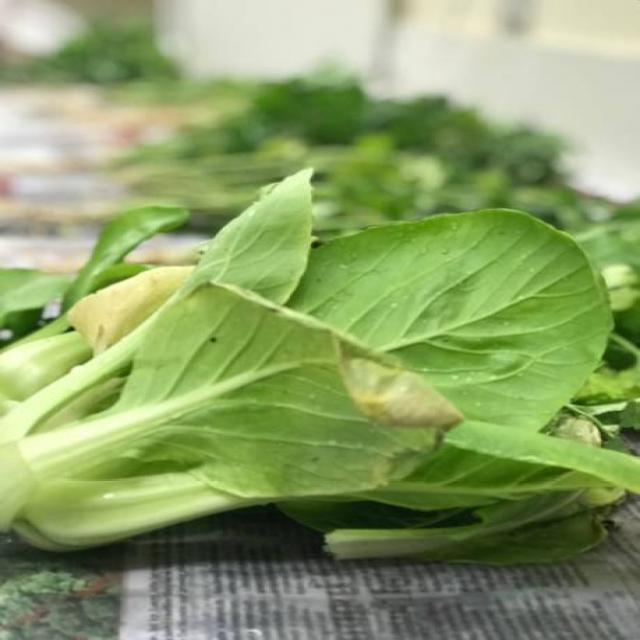bok choy: (0, 231, 640, 557)
